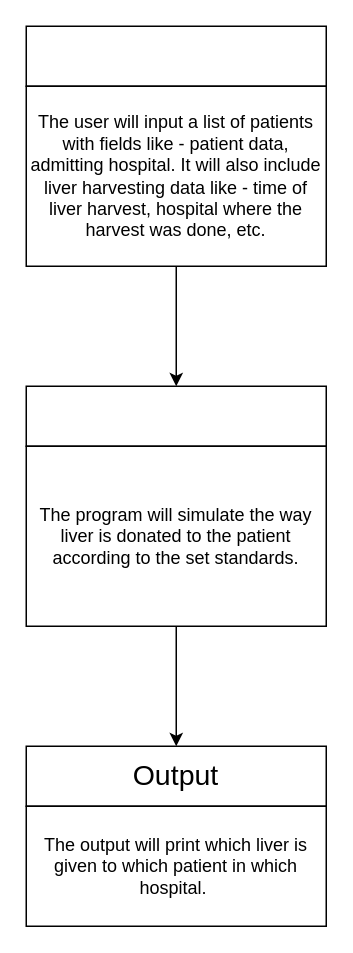
Image size: 353x953. Some labels were removed from this diagram. Each missing label, with the centre of its shape:
"Program" goes at [175,415].
"User Input" goes at [175,55].
